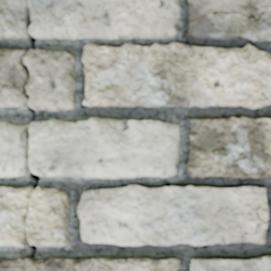brick: (82, 43, 270, 107), (77, 185, 268, 245), (187, 117, 270, 177), (188, 0, 270, 41), (191, 256, 270, 270)
broken_brick: (30, 116, 180, 179), (0, 0, 180, 40), (24, 48, 76, 112), (26, 186, 71, 247), (0, 257, 181, 270), (0, 186, 32, 248), (0, 47, 26, 110), (0, 121, 28, 178), (0, 256, 33, 265), (35, 258, 46, 260)
crack: (0, 2, 49, 268), (242, 202, 268, 235), (83, 48, 106, 55), (172, 32, 177, 37)
